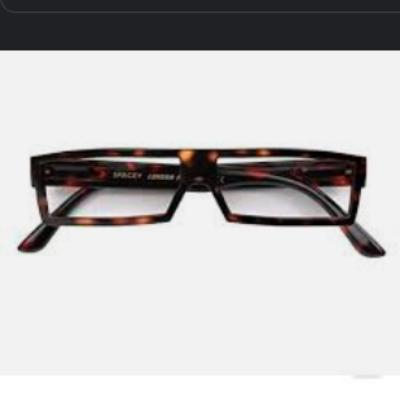glasses: (17, 139, 385, 275)
